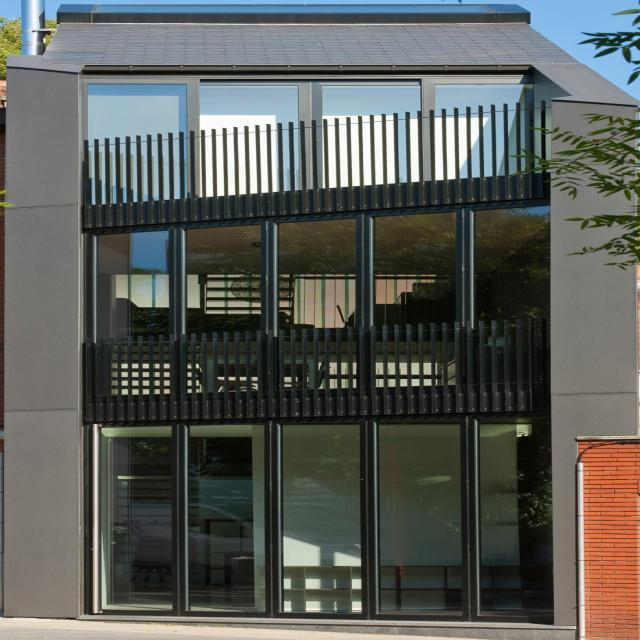door: (92, 421, 531, 626)
railing: (76, 101, 551, 208), (85, 319, 551, 424)
window: (87, 201, 551, 342), (83, 80, 531, 139)
